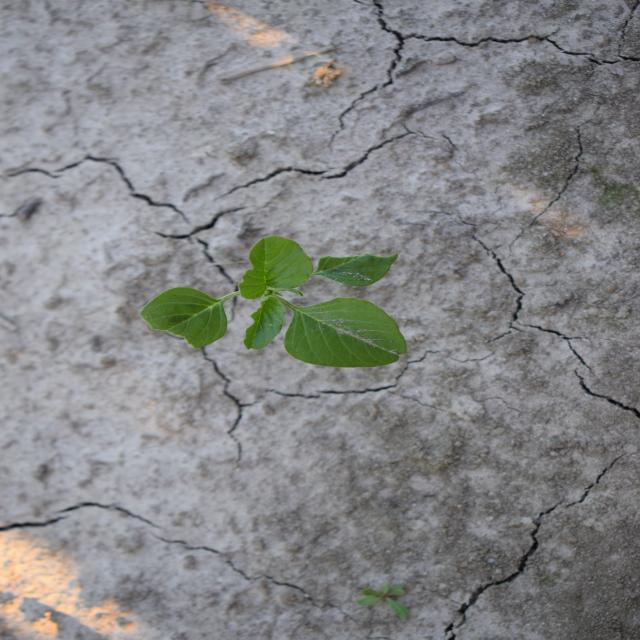PalmerAmaranth: (137, 235, 411, 371)
